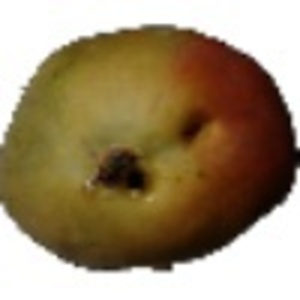mamão: (3, 18, 297, 279)
